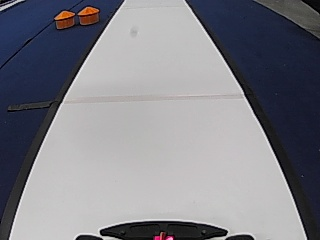granary: (53, 8, 74, 29), (77, 5, 99, 25)
